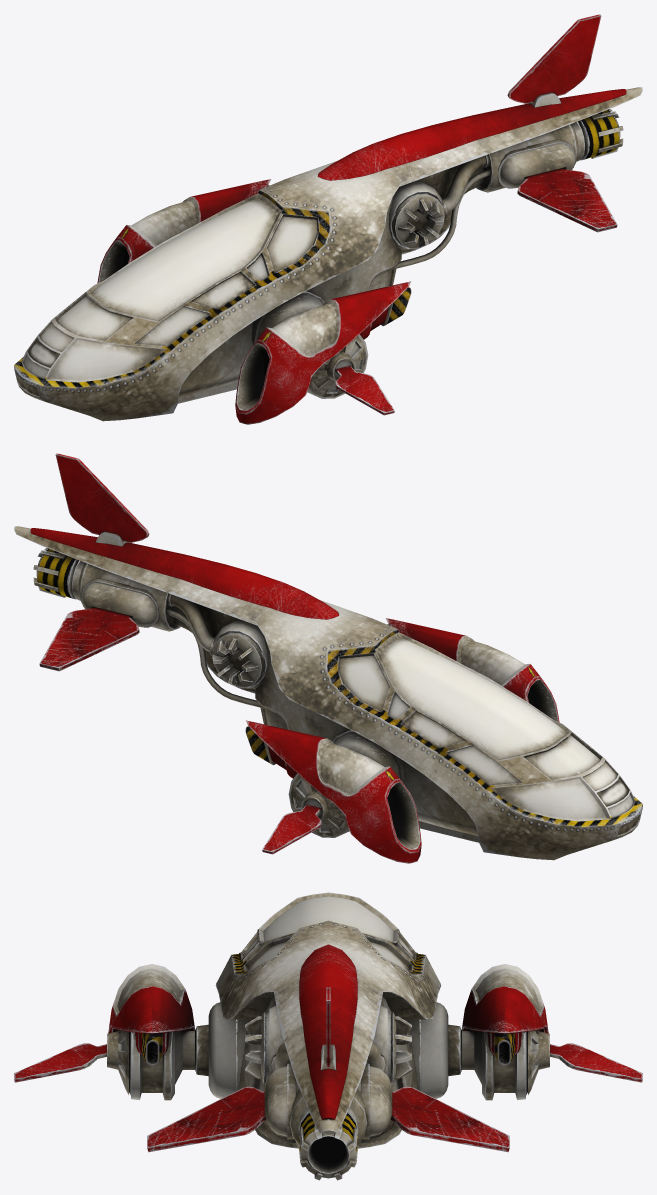
The model's file is Ship1.obj.
The picture shows the model from 3 angles, top to bottom: view 1: azimuth 30°, elevation 25°; view 2: azimuth 150°, elevation 25°; view 3: azimuth 270°, elevation 25°; orthographic projection. The views are drawn at different scales.
Parts seen in each view (by area): view 1: Mesh4 group; view 2: Mesh4 group; view 3: Mesh4 group.
Part boxes in pixels (bbox=[...]): Mesh4 group: bbox=[14, 14, 642, 424]; Mesh4 group: bbox=[14, 453, 642, 863]; Mesh4 group: bbox=[14, 892, 642, 1180].
Bounding box in the file's own units: 0.8613 × 0.3519 × 0.5999.
1 material, 1 textured.
